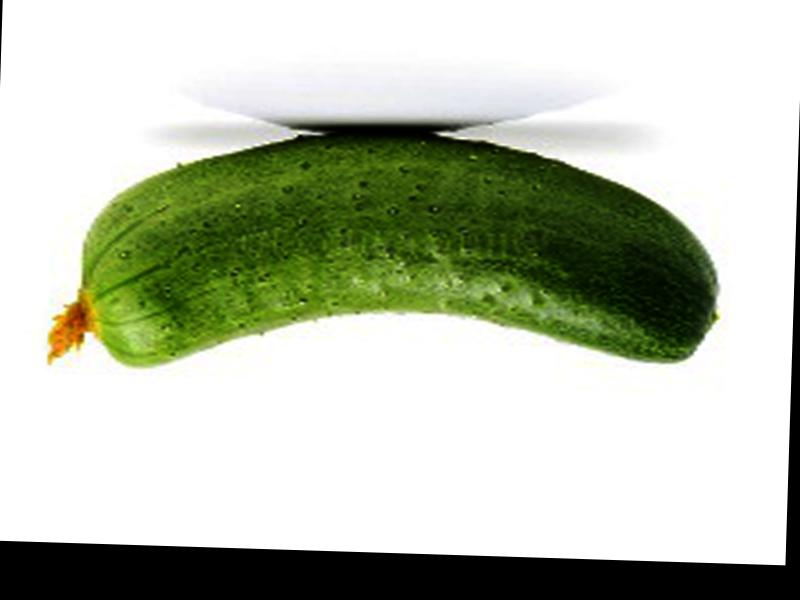Cucumber: (41, 118, 725, 388)
